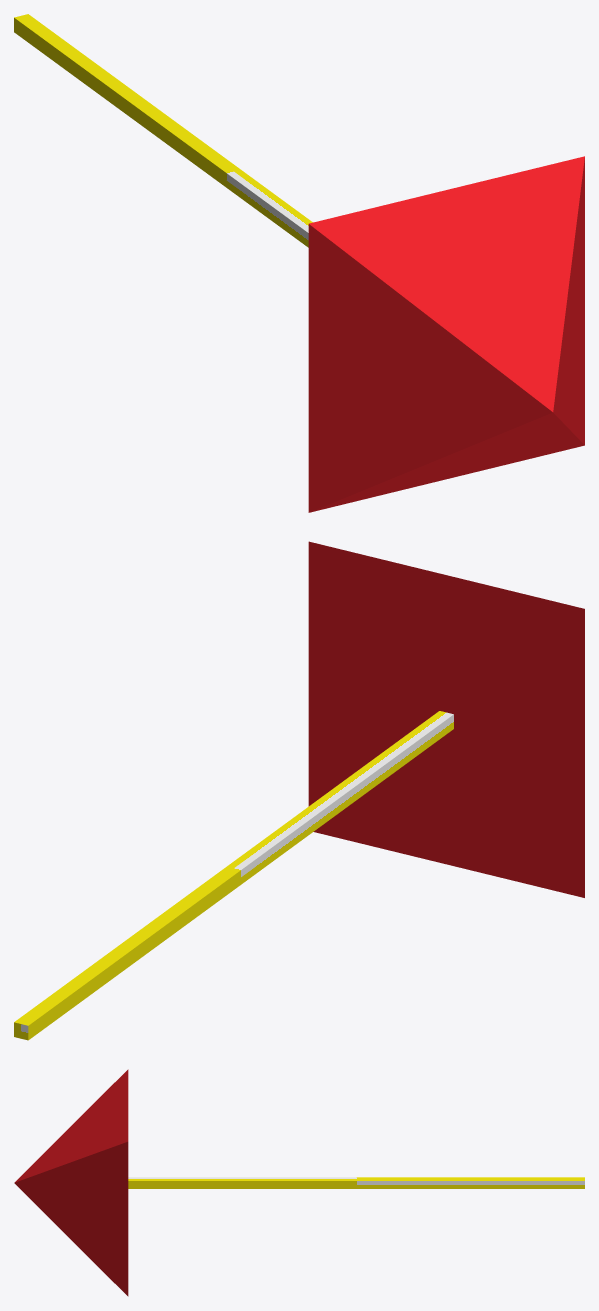
File: vector.FBX
3 renders of one model, top to bottom at view 1: azimuth 30°, elevation 25°; view 2: azimuth 150°, elevation 25°; view 3: azimuth 270°, elevation 25°, orthographic. The views are drawn at different scales.
Visible parts, largest first — view 1: Pyramid001, Box001; view 2: Pyramid001, Box001; view 3: Pyramid001, Box001.
Part boxes in pixels (x1,y1,x2,y2): Pyramid001: [308, 156, 584, 512]; Box001: [14, 14, 312, 247]; Pyramid001: [308, 541, 584, 897]; Box001: [14, 711, 453, 1040]; Pyramid001: [14, 1069, 128, 1296]; Box001: [128, 1177, 584, 1188].
Bounding box in the file's own units: 0.3 × 1 × 0.3.
2 materials, 2 textured.
